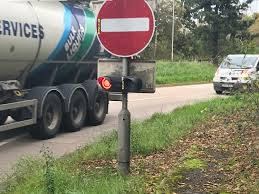No entry: (96, 1, 155, 57)
